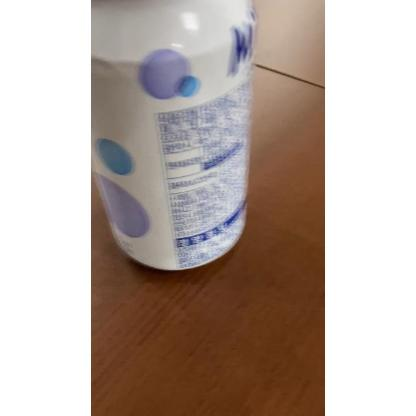Can: (92, 0, 260, 274)
